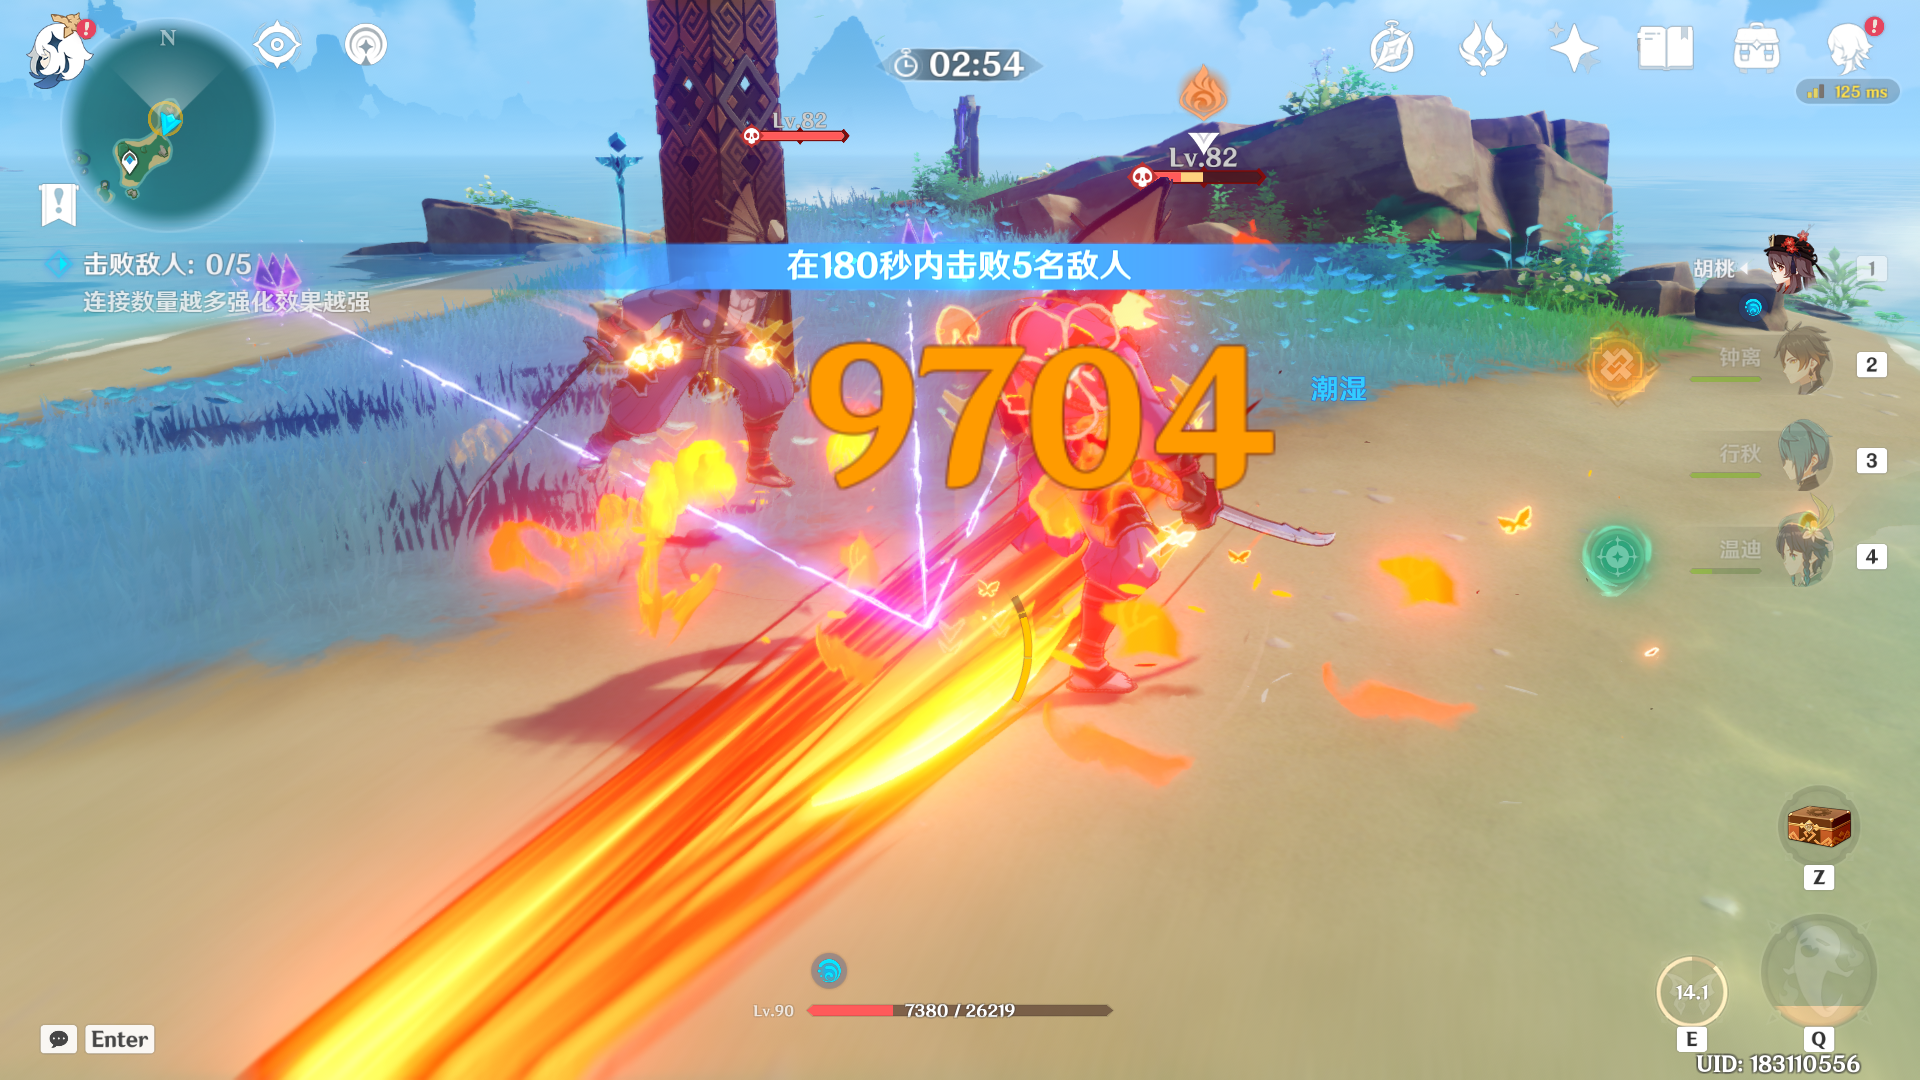samurai: (901, 193, 1341, 767), (508, 148, 844, 607)
